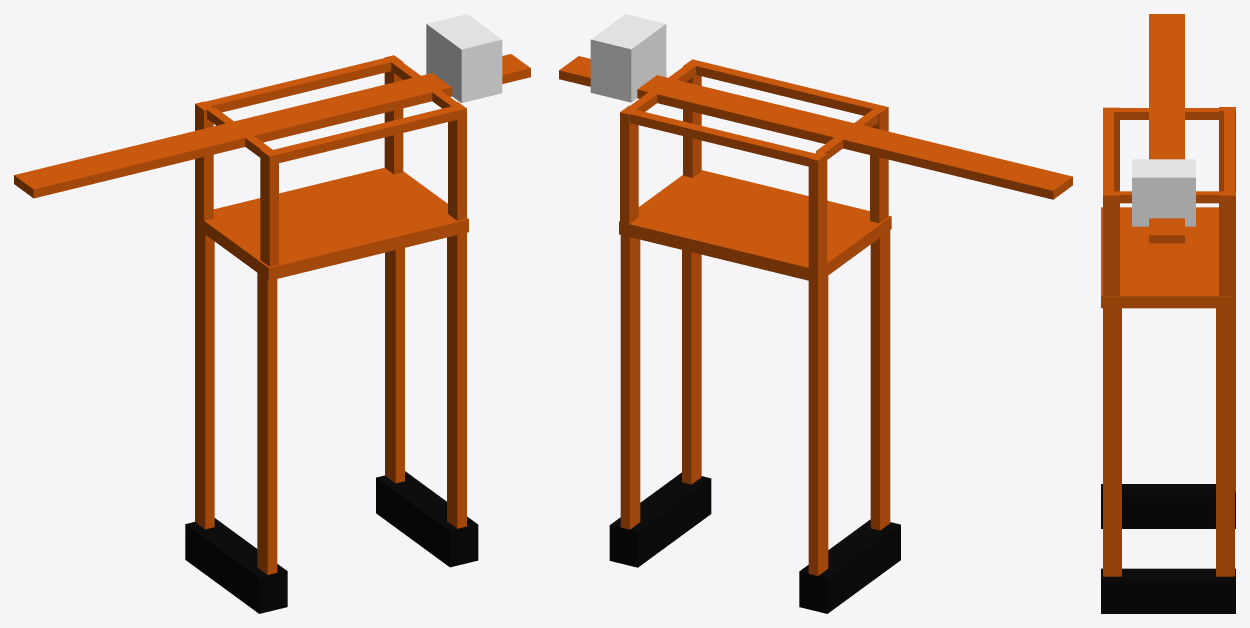
File: crane.obj
The picture shows the model from 3 angles, left to right: view 1: azimuth 30°, elevation 25°; view 2: azimuth 150°, elevation 25°; view 3: azimuth 270°, elevation 25°; orthographic projection. The views are drawn at different scales.
Visible parts, largest first — view 1: cube; view 2: cube; view 3: cube.
Boxes of the visible parts, x1=… form: cube: x1=14, y1=14, x2=530, y2=613; cube: x1=559, y1=14, x2=1072, y2=613; cube: x1=1101, y1=14, x2=1235, y2=613.
Size of the model in its own units: 32.75 by 31.38 by 8.44.
2 materials, 1 textured.
